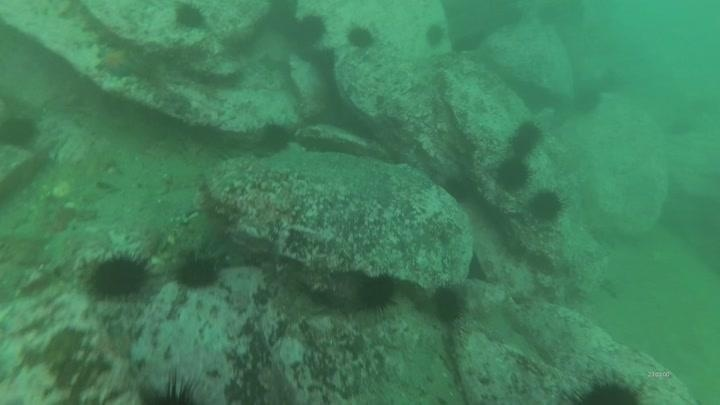echinus: (84, 250, 153, 302), (565, 371, 648, 405), (135, 371, 216, 404), (354, 272, 399, 314), (174, 254, 222, 291), (429, 283, 467, 325), (508, 119, 545, 157), (1, 113, 39, 150), (494, 157, 532, 193), (527, 188, 565, 224), (256, 121, 294, 156), (292, 13, 329, 48), (171, 2, 209, 32), (571, 84, 604, 116), (589, 63, 622, 95), (664, 111, 697, 143), (441, 174, 475, 205), (264, 1, 301, 26), (344, 23, 377, 51), (450, 30, 486, 55), (422, 22, 447, 50)
starfish: (94, 43, 140, 80)
